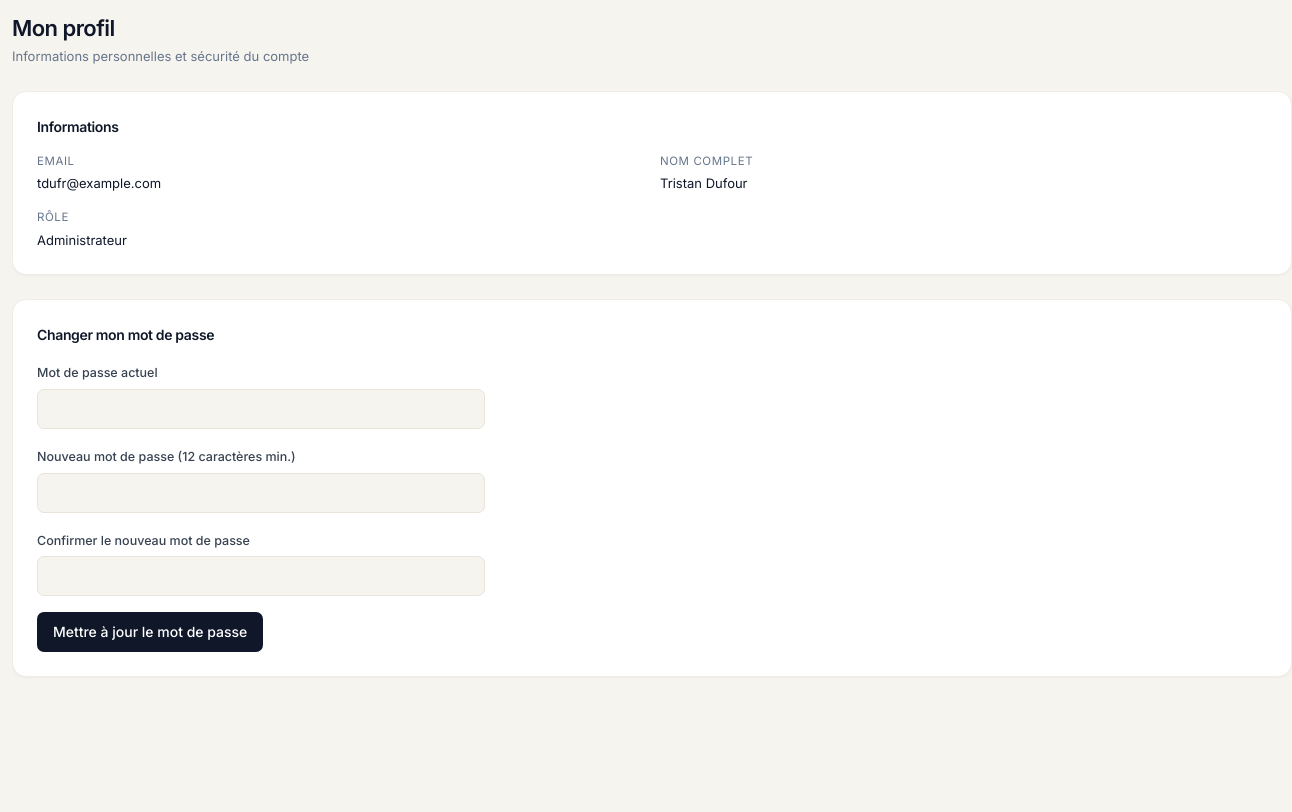
ProfilPage › shows client error when new password is too short
Type "oldpassword12" into the password field labelled "Mot de passe actuel".
click(261, 409); type("oldpassword12")  # box left=37, top=389, right=485, bottom=429
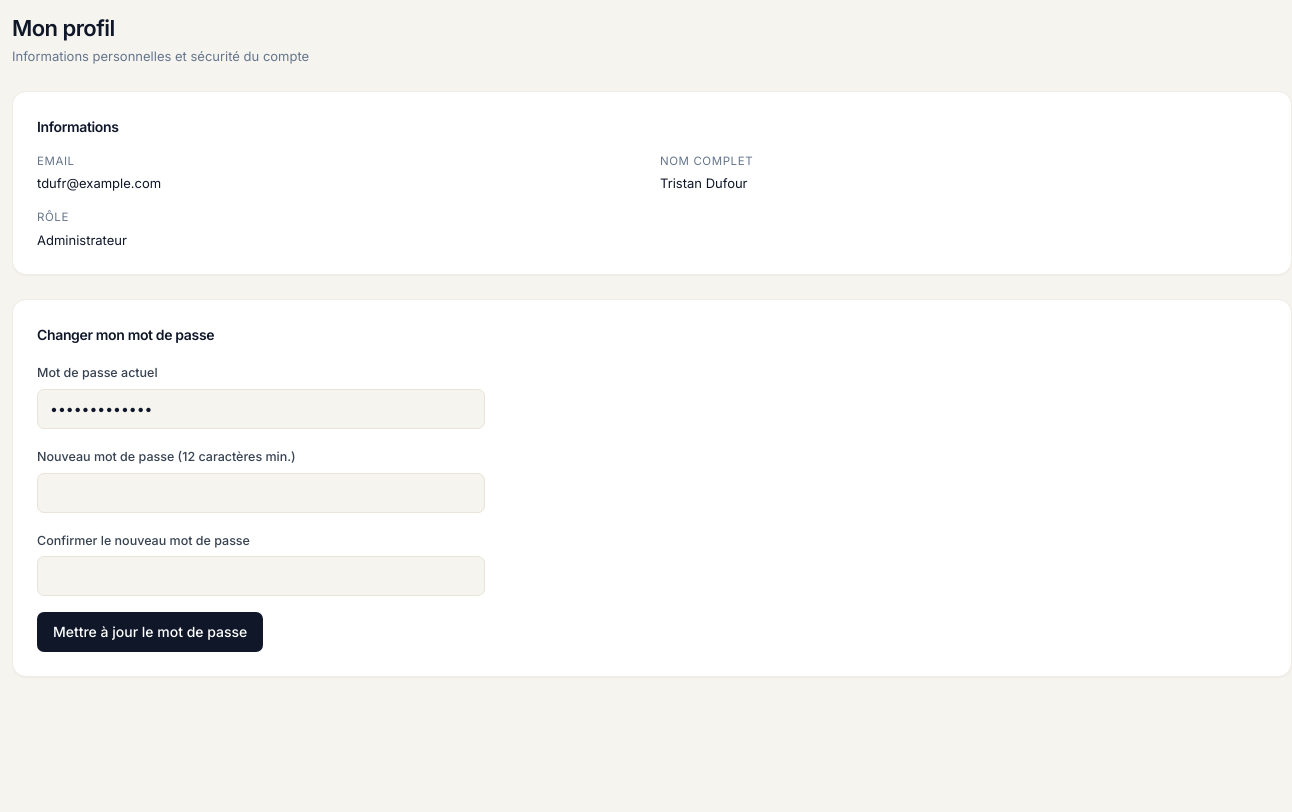
Type "short" into the password field labelled "Nouveau mot de passe (12 caractères min.)".
click(261, 492); type("short")  # box left=37, top=472, right=485, bottom=512
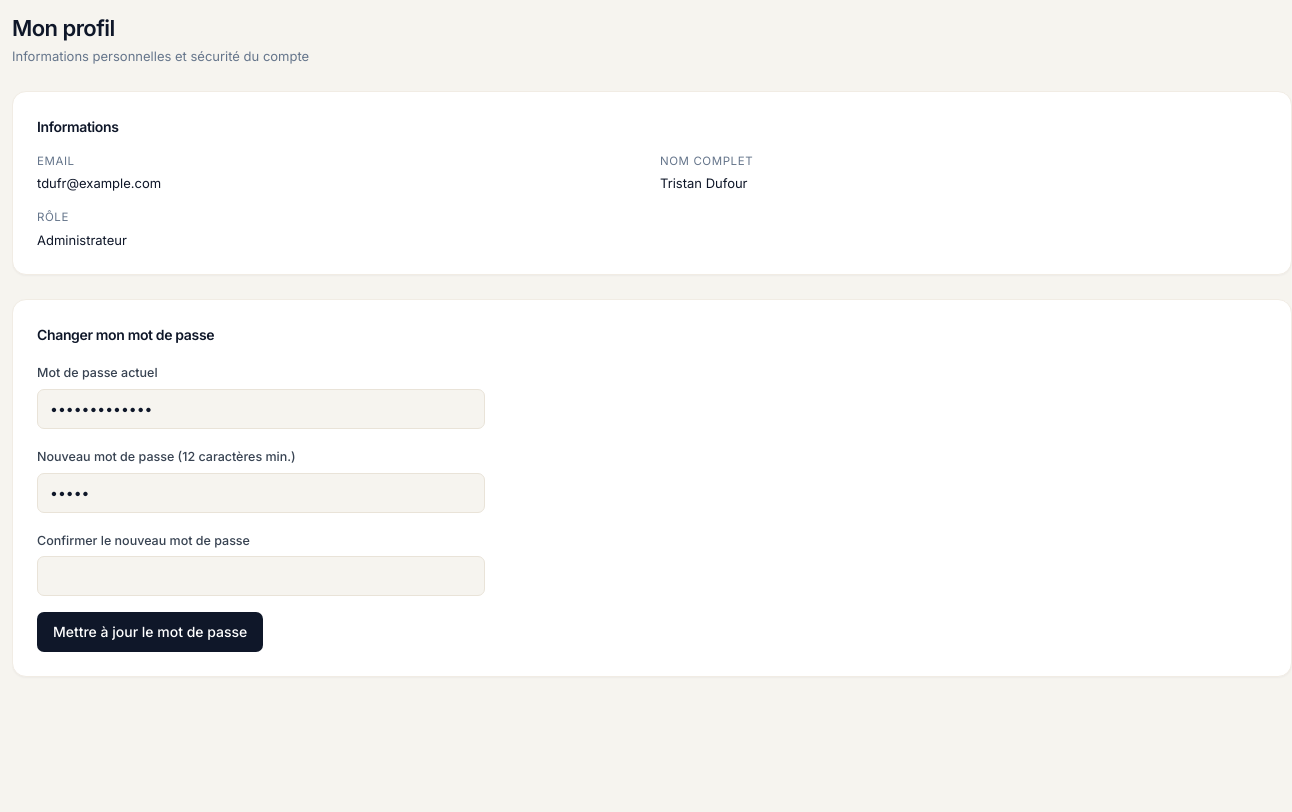
Type "short" into the password field labelled "Confirmer le nouveau mot de passe".
click(261, 576); type("short")  # box left=37, top=556, right=485, bottom=596
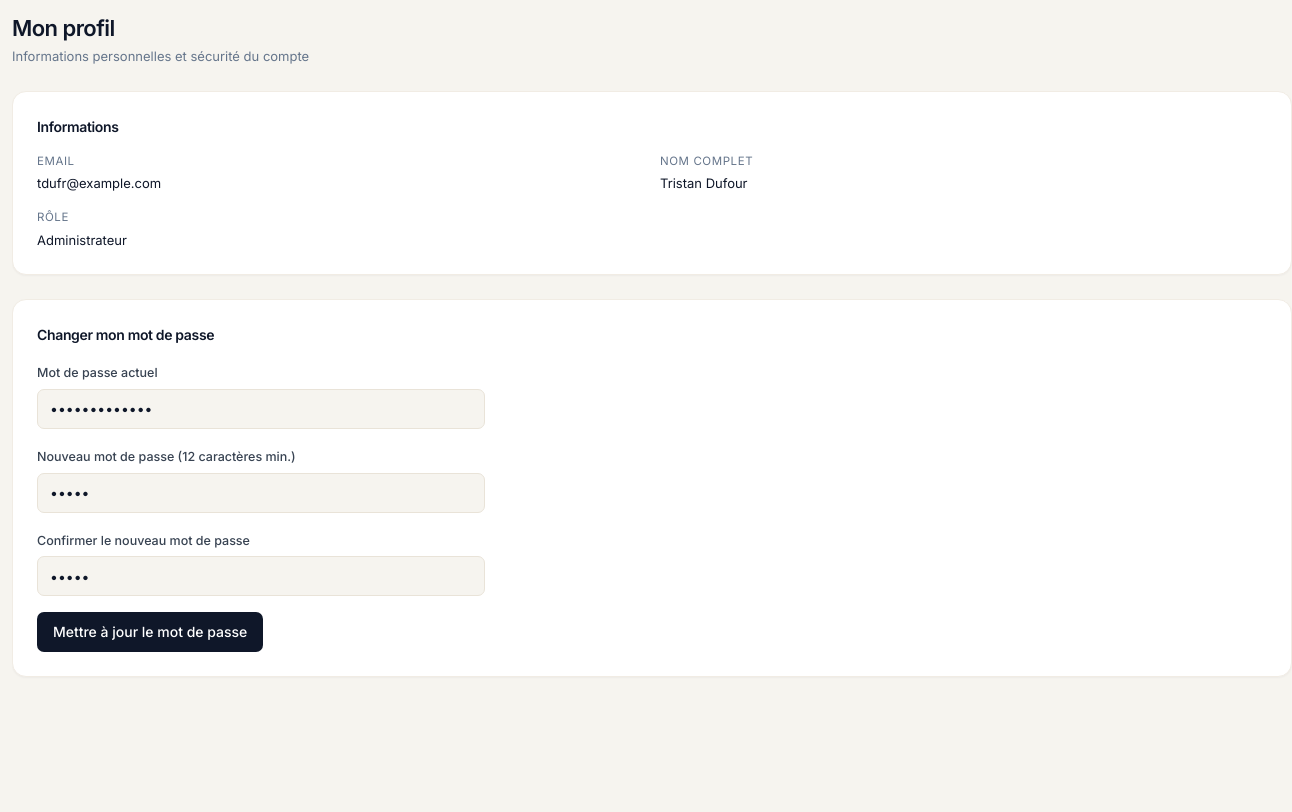
Click the button "Mettre à jour le mot de passe".
click(150, 632)  # box left=37, top=612, right=263, bottom=652
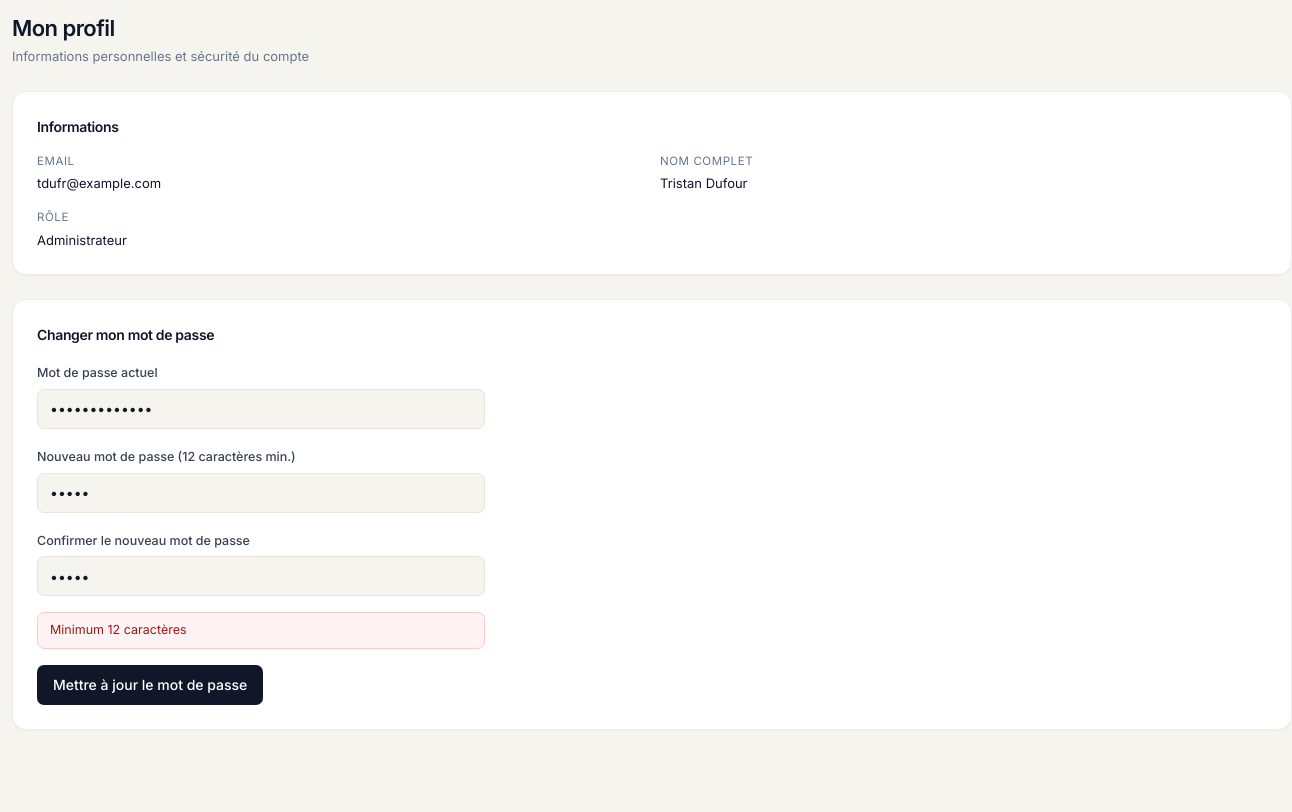
Expected: the text "Minimum 12 caractères" is shown, left=37, top=612, right=485, bottom=649
